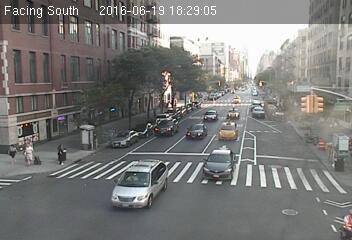neg: (76, 115, 104, 152), (104, 133, 120, 154), (125, 173, 140, 193), (115, 193, 130, 213), (139, 171, 154, 190), (228, 102, 238, 117), (223, 116, 232, 127), (233, 92, 241, 102)
pos: (18, 139, 38, 165), (51, 143, 70, 169)
